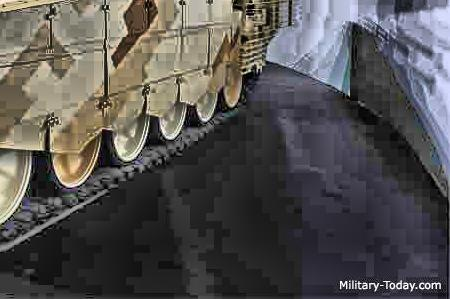tanks: (1, 1, 295, 249)
